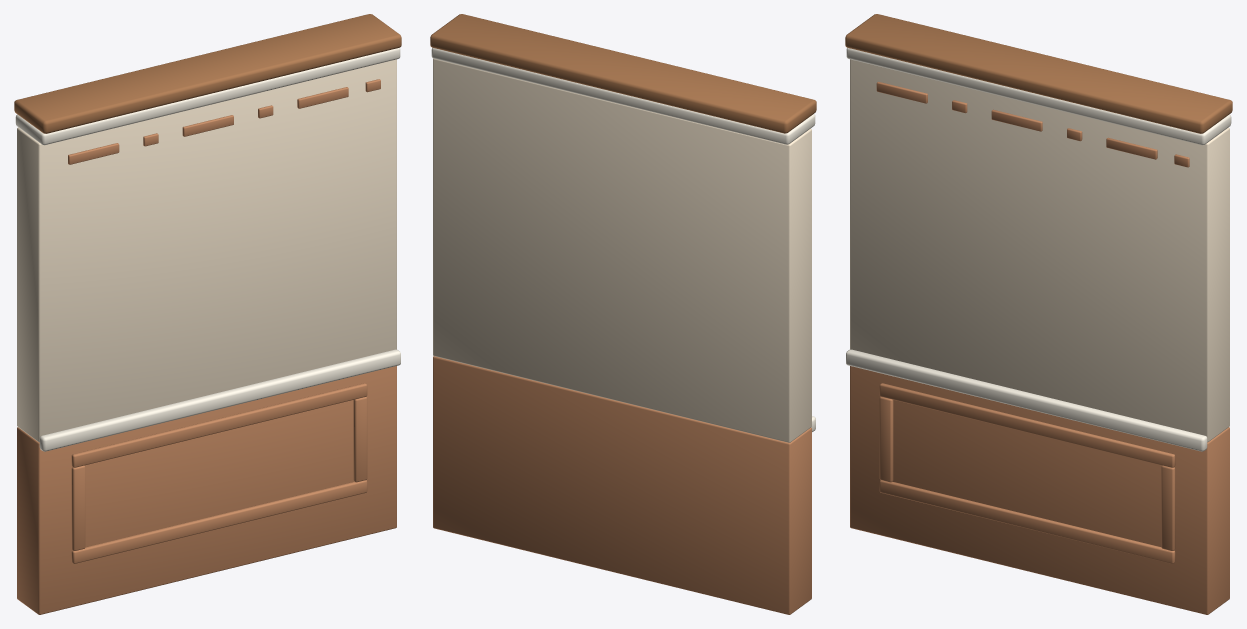
The model's file is wall-solid.glb.
3 views of the same model, side by side, from view 1: azimuth 30°, elevation 25°; view 2: azimuth 150°, elevation 25°; view 3: azimuth 330°, elevation 25° (orthographic).
Visible parts, largest first — view 1: ShellWallSolid_Upper, ShellWallSolid_LowerWainscot, ShellWallSolid_Coping, ShellWallSolid_ChairRail; view 2: ShellWallSolid_Upper, ShellWallSolid_LowerWainscot, ShellWallSolid_Coping, ShellWallSolid_ChairRail; view 3: ShellWallSolid_Upper, ShellWallSolid_LowerWainscot, ShellWallSolid_Coping, ShellWallSolid_ChairRail.
Boxes of the visible parts, x1,y1,x2,y2 form: ShellWallSolid_Upper: (17,59,396,442); ShellWallSolid_LowerWainscot: (17,79,396,614); ShellWallSolid_Coping: (14,14,401,133); ShellWallSolid_ChairRail: (15,48,400,451); ShellWallSolid_Upper: (433,58,811,442); ShellWallSolid_LowerWainscot: (433,356,811,614); ShellWallSolid_Coping: (430,14,816,133); ShellWallSolid_ChairRail: (431,47,815,431); ShellWallSolid_Upper: (850,59,1229,442); ShellWallSolid_LowerWainscot: (850,81,1229,614); ShellWallSolid_Coping: (845,14,1232,133); ShellWallSolid_ChairRail: (846,48,1231,451).
Size of the model in its own units: 2 by 2.65 by 0.304.
